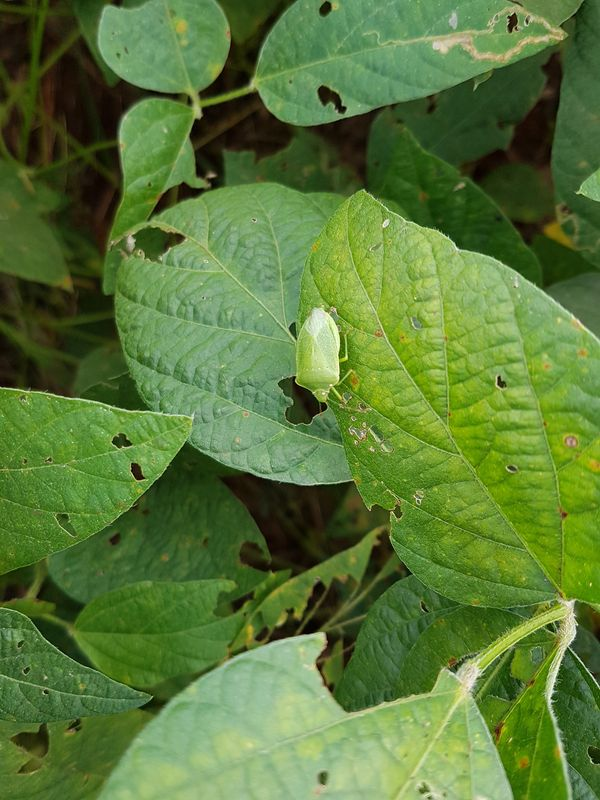Nezara_viridula_adulto: (272, 295, 368, 417)
